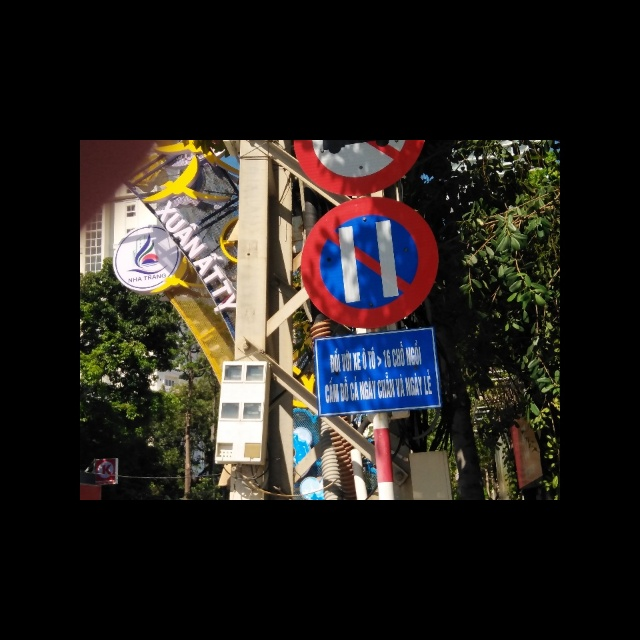Cấm đỗ xe ngày chẵn: (296, 198, 442, 330)
